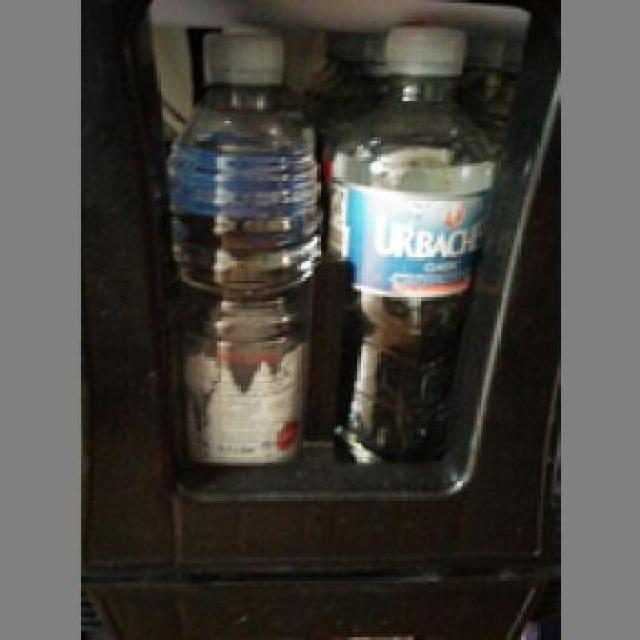Water: (323, 23, 491, 463), (165, 26, 318, 463)
